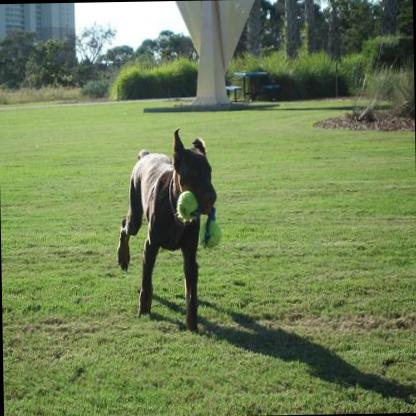Doberman: (112, 123, 221, 334)
